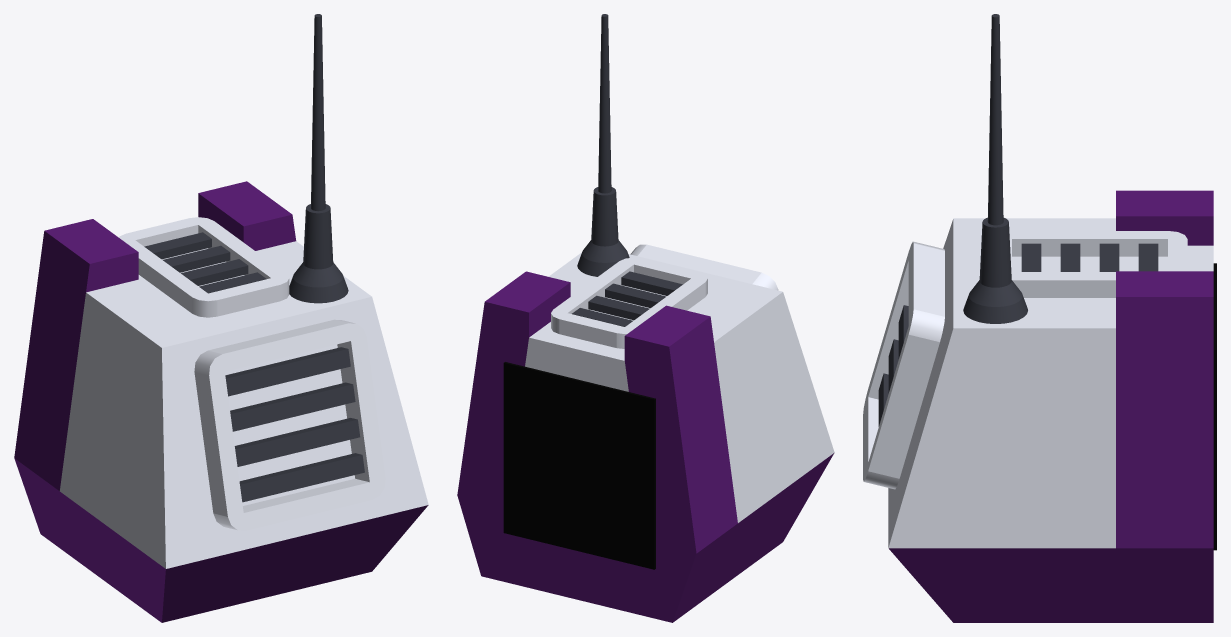
The model's file is Doghouse.fbx.
3 renders of one model, left to right at view 1: azimuth 30°, elevation 25°; view 2: azimuth 150°, elevation 25°; view 3: azimuth 270°, elevation 25°, orthographic. The views are drawn at different scales.
Visible parts, largest first — view 1: body_default, grate_square, grate_squareNarrow, detail_antenna; view 2: body_default, block, grate_squareNarrow, detail_antenna, grate_square; view 3: body_default, grate_square, grate_squareNarrow, detail_antenna, block.
Part boxes in pixels (x1,y1,x2,y2): body_default: (14,181,428,622); grate_square: (194,319,385,530); grate_squareNarrow: (119,217,289,317); detail_antenna: (289,14,348,303); body_default: (457,252,834,622); block: (503,362,655,569); grate_squareNarrow: (551,257,707,348); detail_antenna: (577,14,629,276); grate_square: (630,244,778,290); body_default: (888,190,1213,622); grate_square: (863,241,944,489); grate_squareNarrow: (1009,231,1187,297); detail_antenna: (963,14,1027,323); block: (1213,263,1216,550).
Size of the model in its own units: 10 by 20 by 10.88.
